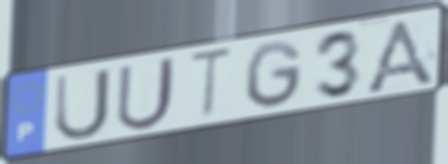3: (312, 26, 365, 101)
A: (360, 15, 439, 94)
G: (244, 38, 306, 111)
T: (185, 45, 238, 124)
U: (113, 53, 179, 133), (53, 65, 113, 144)
